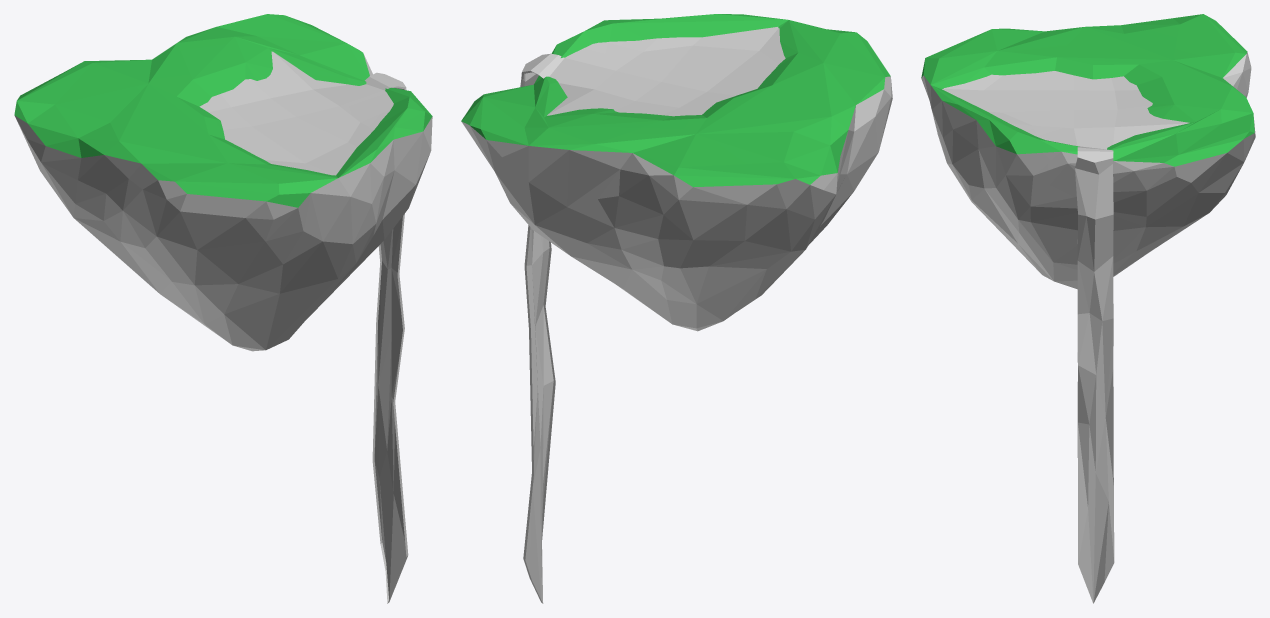
File: island_6.fbx
3 views of the same model, side by side, from view 1: azimuth 30°, elevation 25°; view 2: azimuth 150°, elevation 25°; view 3: azimuth 270°, elevation 25° (orthographic). The views are drawn at different scales.
Visible parts, largest first — view 1: Plane; view 2: Plane; view 3: Plane.
Boxes of the visible parts, x1,y1,x2,y2 form: Plane: (14, 14, 432, 603); Plane: (461, 14, 892, 603); Plane: (921, 14, 1255, 603).
Bounding box in the file's own units: 3151 × 4714 × 3090.
